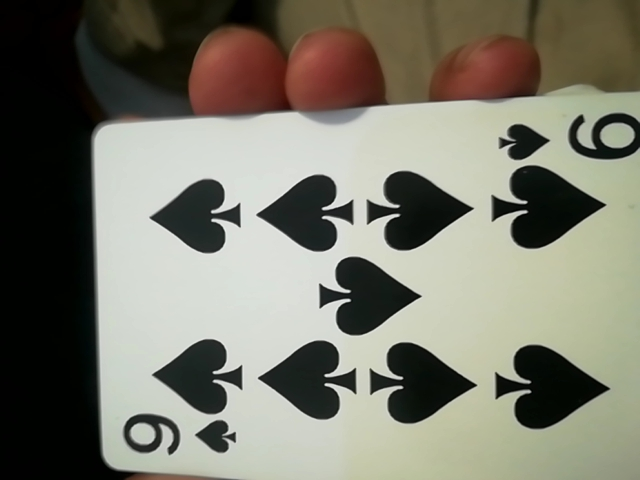ht 9: (73, 100, 631, 479)
